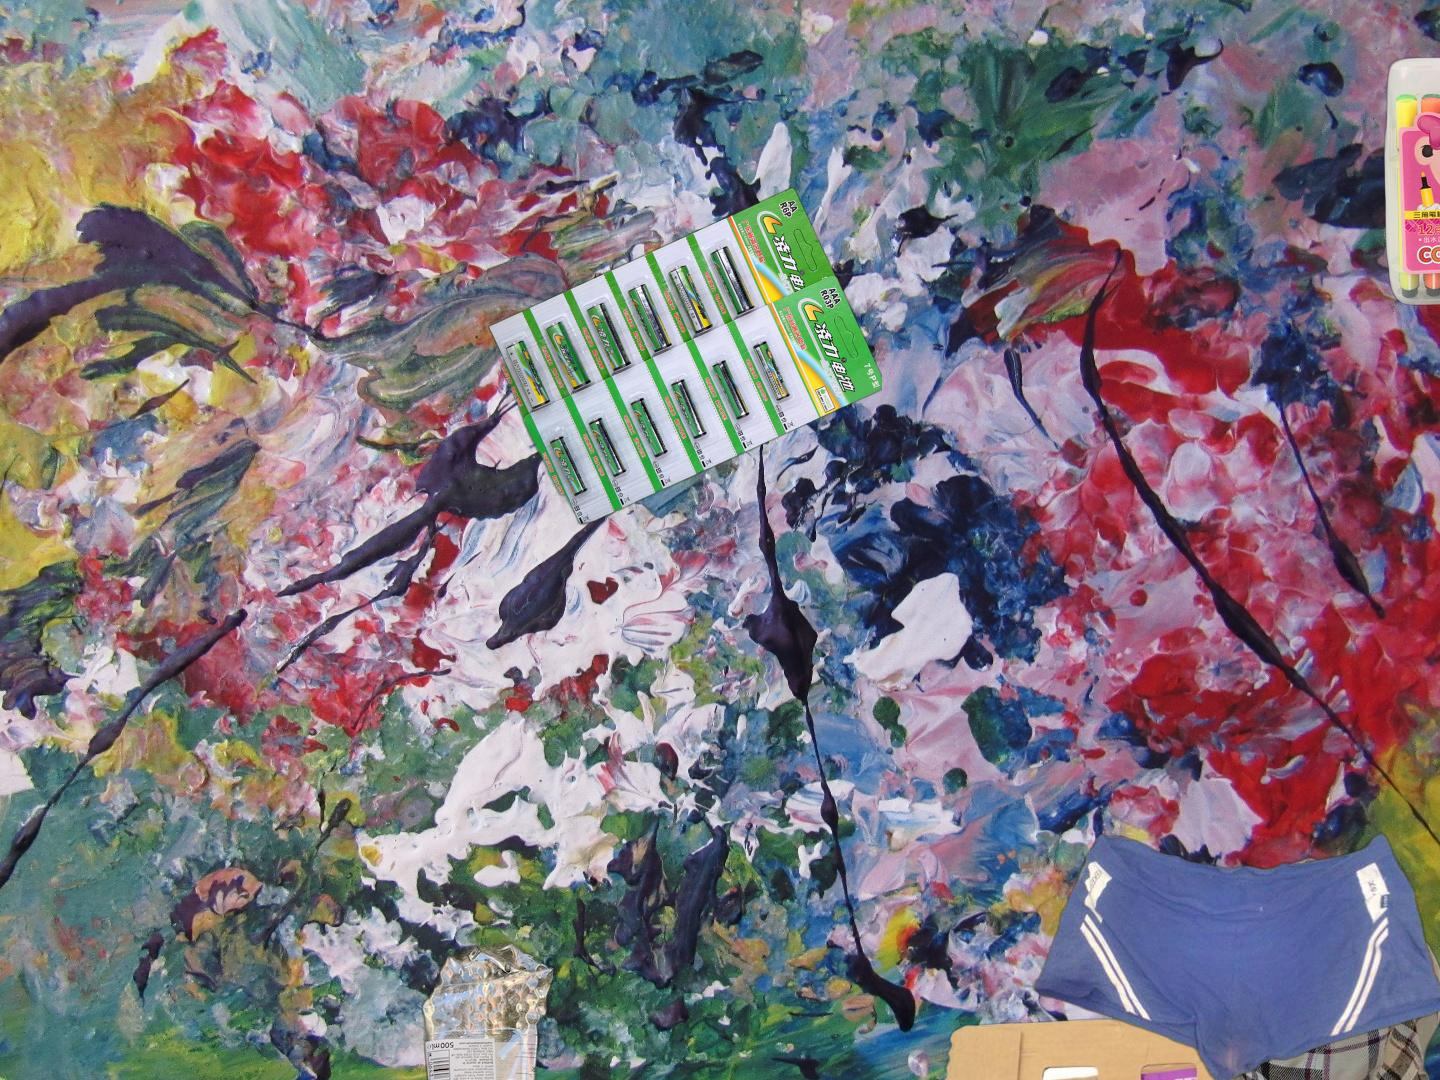battery: (485, 186, 882, 526)
clothes: (1028, 829, 1440, 1080), (1208, 853, 1440, 1080)
penholder: (1383, 52, 1440, 307)
plastic-bottles: (417, 926, 560, 1080)
trashbox-cardboard: (934, 997, 1395, 1080)
